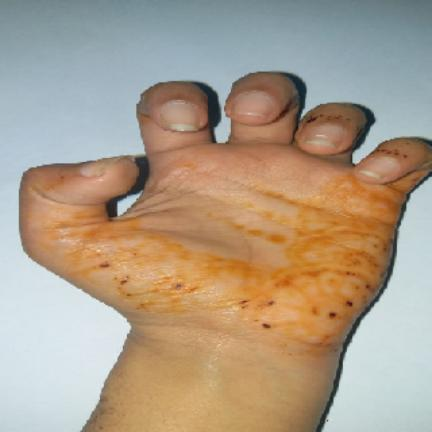Nail: (355, 156, 400, 182), (161, 100, 198, 131), (306, 122, 345, 148), (234, 92, 270, 116), (79, 157, 118, 176)
